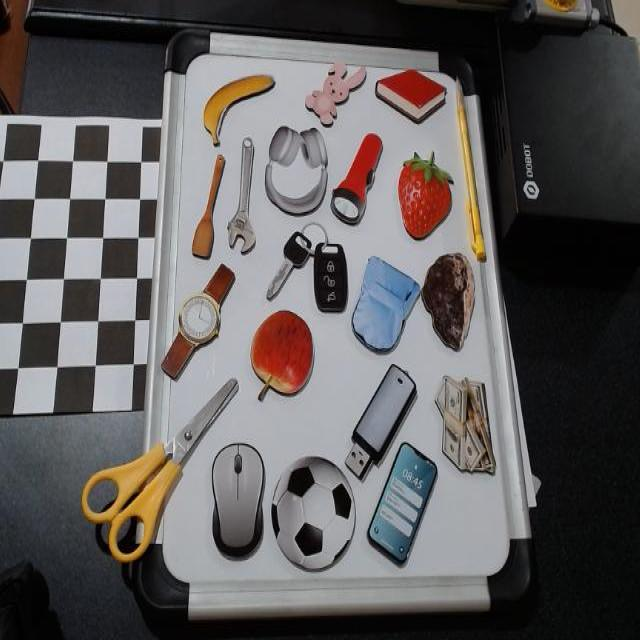Other Objects: (80, 377, 239, 563), (266, 213, 358, 323), (270, 454, 354, 572), (160, 263, 235, 381), (366, 441, 437, 564), (344, 363, 417, 481), (342, 255, 418, 362), (434, 371, 493, 482), (325, 122, 385, 229), (263, 124, 328, 216), (249, 309, 314, 401), (212, 441, 267, 548), (420, 251, 475, 351), (202, 73, 275, 147), (304, 60, 366, 127), (190, 151, 225, 259), (224, 139, 256, 254)
